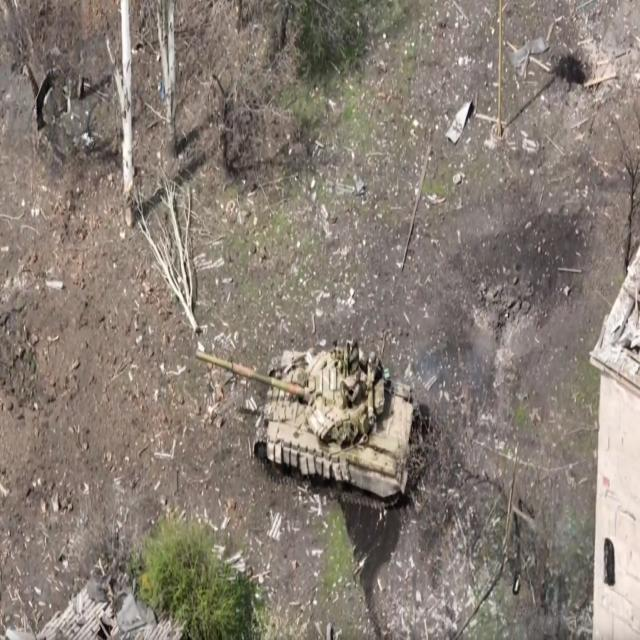MBT: (196, 334, 422, 512)
